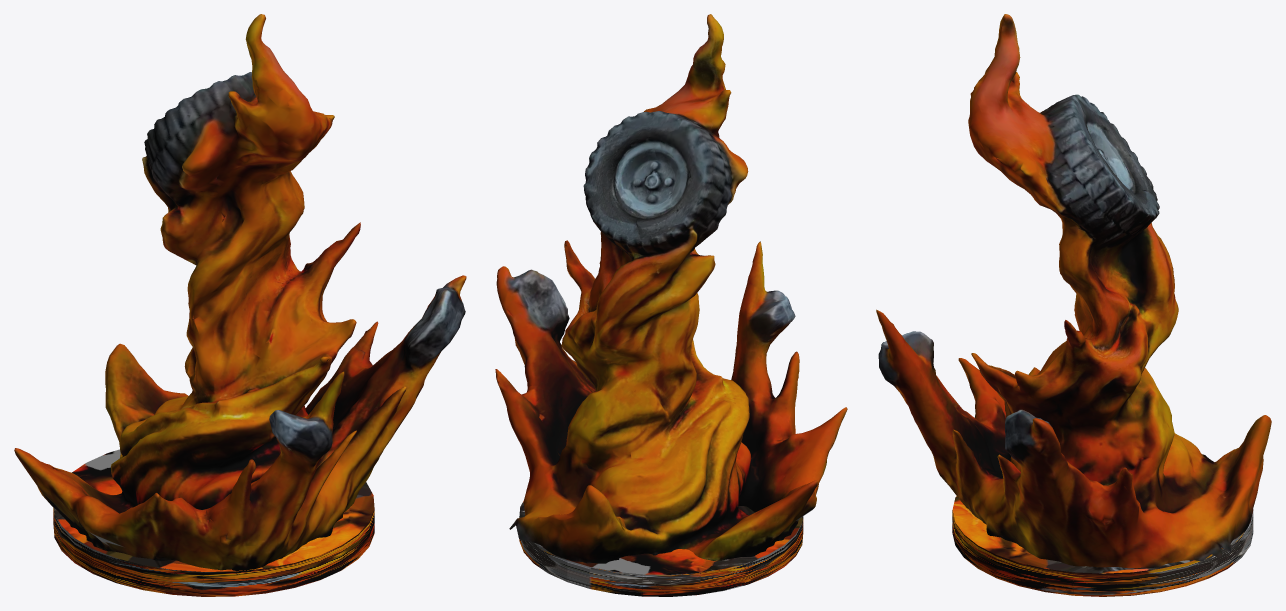
File: construct-2.glb
The picture shows the model from 3 angles, left to right: view 1: azimuth 30°, elevation 25°; view 2: azimuth 150°, elevation 25°; view 3: azimuth 270°, elevation 25°; orthographic projection. The views are drawn at different scales.
Visible parts, largest first — view 1: default (×2); view 2: default (×2); view 3: default (×2).
Boxes of the visible parts, x1,y1,x2,y2 form: default (×2): [14, 14, 466, 596]; default (×2): [495, 14, 847, 596]; default (×2): [876, 14, 1271, 596].
Bounding box in the file's own units: 2 × 2.61 × 1.81.
2 materials, 2 textured.
